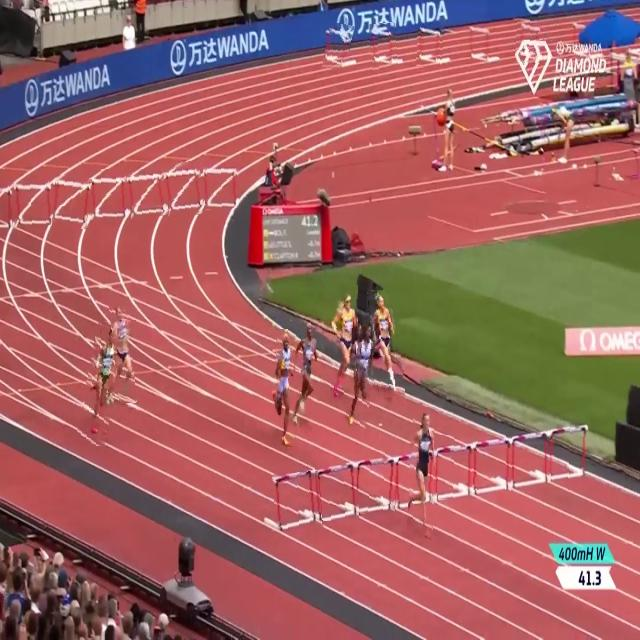athlete: (81, 321, 123, 447), (408, 407, 438, 538), (347, 325, 379, 434), (370, 289, 402, 396), (295, 308, 321, 434), (272, 330, 300, 446), (331, 284, 358, 399), (112, 302, 135, 404)
hurdle: (274, 472, 322, 534), (354, 450, 398, 515), (395, 446, 437, 511), (549, 422, 589, 490), (510, 426, 551, 490), (315, 460, 358, 520), (434, 436, 472, 500), (162, 162, 205, 218), (471, 434, 512, 491), (126, 167, 168, 218), (52, 175, 91, 228), (90, 168, 128, 220), (10, 180, 51, 227), (203, 164, 239, 209), (324, 23, 352, 71), (370, 22, 398, 70), (515, 19, 543, 63), (417, 24, 444, 67), (466, 22, 491, 68)
